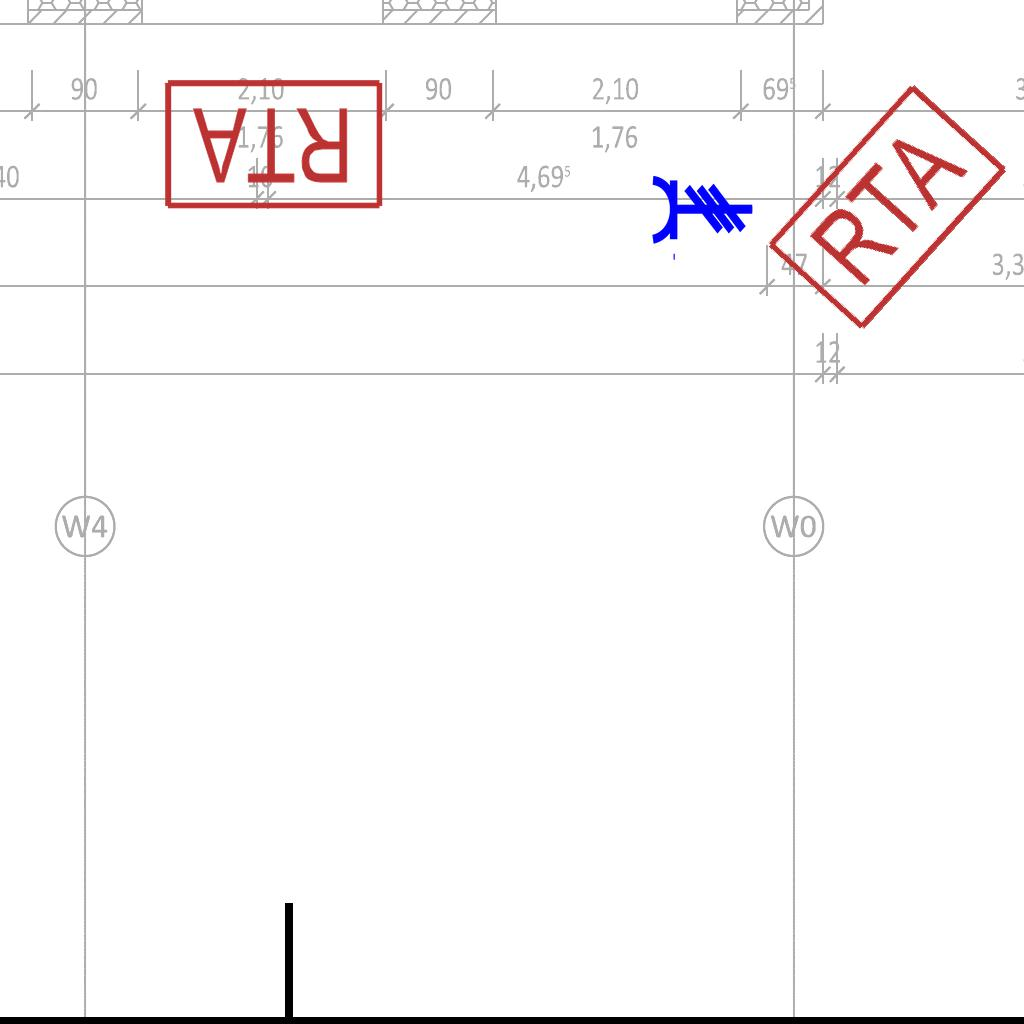CEE_Drehstrom_Steckdose_16_32_A: (650, 173, 754, 263)
Ruf-und_Abstelltaster: (758, 78, 1014, 340), (162, 75, 390, 213)
